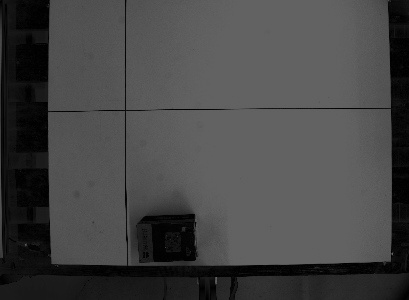b4: (134, 211, 198, 263)
